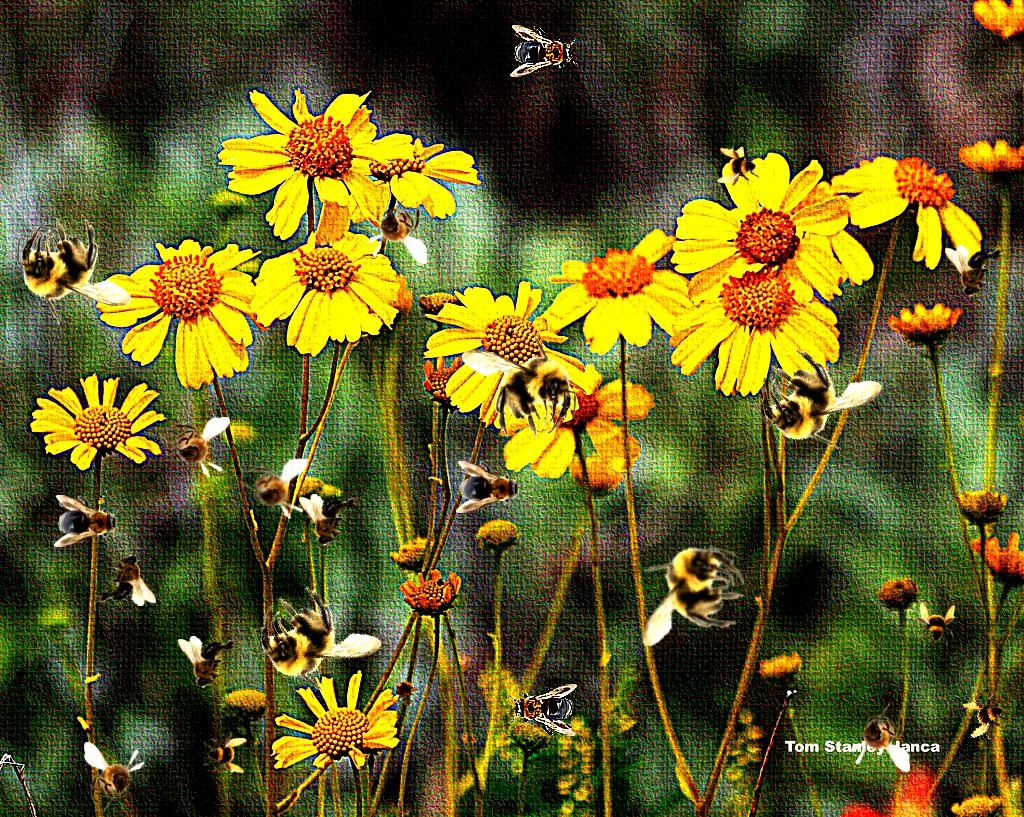Bee: (740, 319, 897, 476), (243, 567, 392, 712), (621, 529, 756, 668), (17, 218, 132, 325), (461, 331, 576, 438), (237, 457, 312, 523), (366, 194, 427, 264), (849, 702, 910, 772), (84, 742, 145, 812), (160, 417, 230, 478), (456, 461, 524, 513), (54, 495, 122, 547), (510, 25, 578, 77), (509, 684, 577, 736), (958, 688, 1016, 746), (299, 494, 361, 547), (945, 245, 1007, 298), (94, 553, 156, 606), (178, 636, 240, 689), (202, 730, 248, 776), (913, 602, 957, 646), (717, 146, 761, 190)
